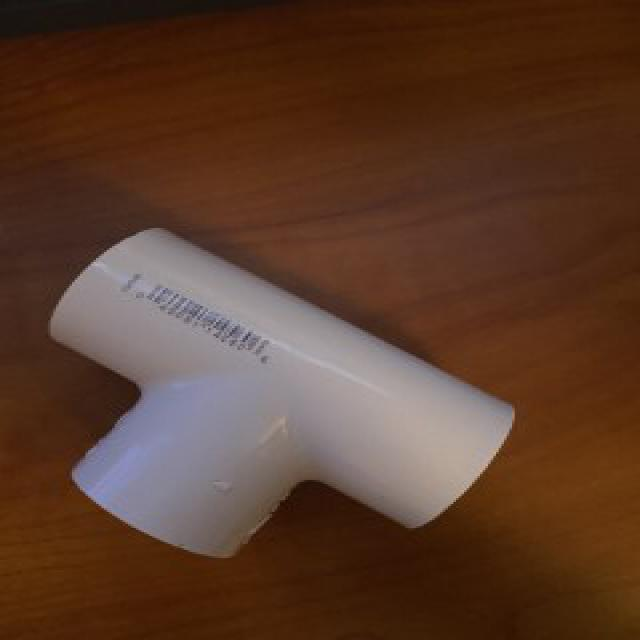T Joint: (46, 228, 517, 561)
